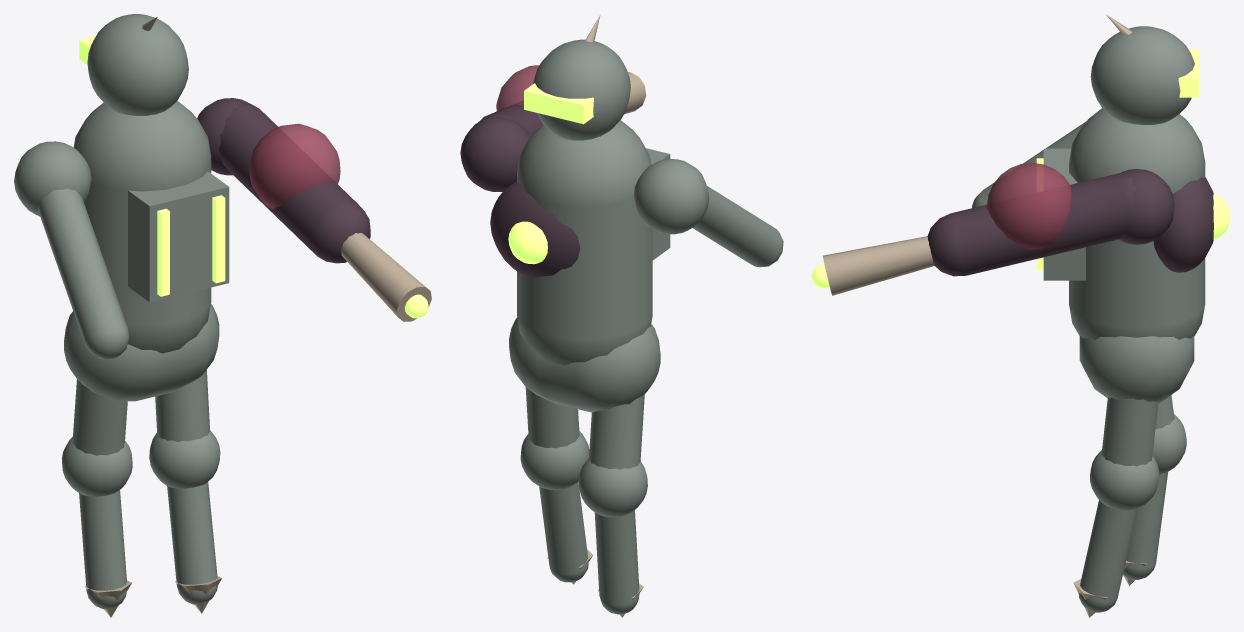
The model's file is grafted-brood-host.glb.
3 renders of one model, left to right at view 1: azimuth 30°, elevation 25°; view 2: azimuth 150°, elevation 25°; view 3: azimuth 270°, elevation 25°, orthographic. The views are drawn at different scales.
Visible parts, largest first — view 1: torso_plate, back_pack, helmet, arm_plate_l, symbiont_arm, pelvis, symbiont_sac, leg_r_lower, leg_l_lower, shoulder_l, symbiont_barrel, leg_r_knee (+6 smaller); view 2: torso_plate, pelvis, helmet, shoulder_l, chest_graft, leg_l_lower, shoulder_r, arm_plate_l, leg_r_lower, leg_l_upper, leg_l_knee, leg_r_knee (+7 smaller); view 3: torso_plate, symbiont_arm, helmet, pelvis, symbiont_sac, leg_r_lower, symbiont_barrel, chest_graft, leg_r_upper, leg_r_knee, shoulder_r, leg_l_lower (+5 smaller).
Part boxes in pixels (x1,y1,x2,y2): torso_plate: (73, 101, 211, 353); back_pack: (128, 171, 229, 302); helmet: (87, 14, 188, 115); arm_plate_l: (38, 188, 128, 359); symbiont_arm: (219, 102, 370, 263); pelvis: (64, 304, 219, 401); symbiont_sac: (249, 123, 340, 209); leg_r_lower: (167, 482, 217, 604); leg_l_lower: (79, 490, 126, 609); shoulder_l: (14, 141, 91, 216); symbiont_barrel: (341, 233, 431, 321); leg_r_knee: (149, 430, 220, 488); torso_plate: (517, 120, 652, 365); pelvis: (509, 317, 660, 412); helmet: (533, 39, 630, 140); shoulder_l: (633, 159, 709, 234); chest_graft: (490, 181, 580, 277); leg_l_lower: (594, 510, 639, 614); shoulder_r: (460, 117, 530, 191); arm_plate_l: (693, 186, 783, 267); leg_r_lower: (539, 481, 588, 582); leg_l_upper: (589, 394, 644, 469); leg_l_knee: (578, 458, 647, 517); leg_r_knee: (520, 431, 589, 490); torso_plate: (1069, 108, 1205, 339); symbiont_arm: (927, 173, 1136, 276); helmet: (1090, 26, 1194, 124); pelvis: (1079, 335, 1194, 402); symbiont_sac: (986, 162, 1071, 249); leg_r_lower: (1079, 500, 1137, 612); symbiont_barrel: (823, 236, 934, 295); chest_graft: (1153, 177, 1213, 272); leg_r_upper: (1101, 397, 1158, 466); leg_r_knee: (1090, 450, 1159, 510); shoulder_r: (1118, 169, 1174, 244); leg_l_lower: (1123, 472, 1167, 579).
Bounding box in the file's own units: 0.8711 × 1.88 × 1.21.
